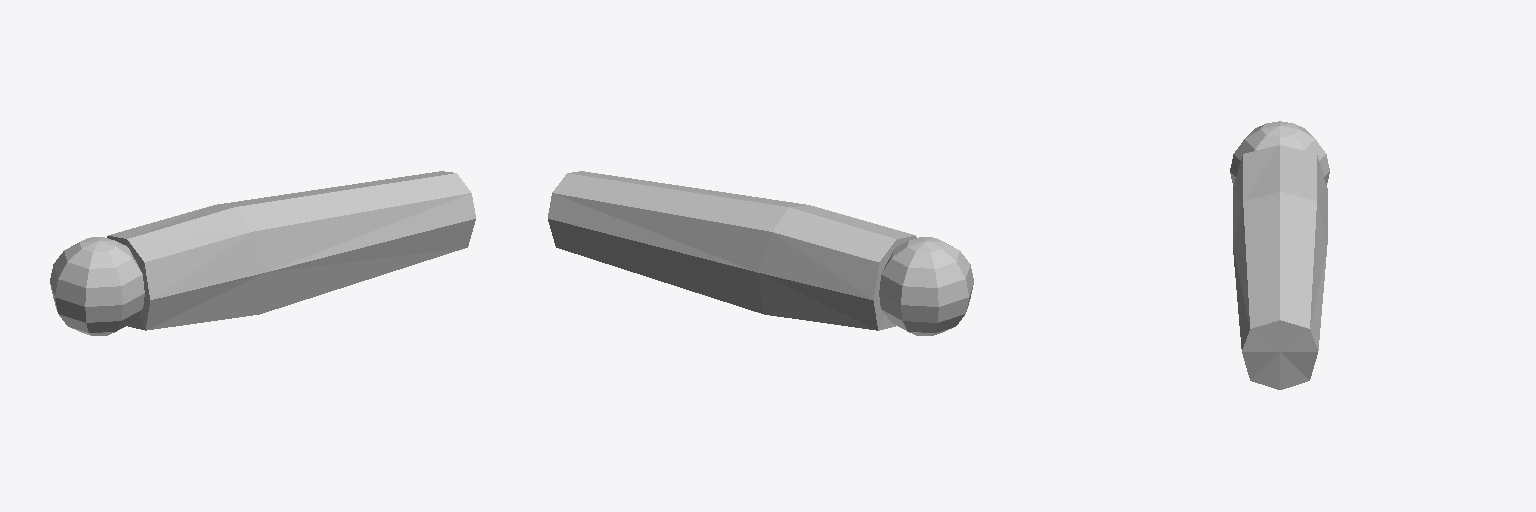
Rendered from left_lower_arm.obj.
The picture shows the model from 3 angles: view 1: azimuth 30°, elevation 25°; view 2: azimuth 150°, elevation 25°; view 3: azimuth 270°, elevation 25°; orthographic projection.
Visible parts, largest first — view 1: Left_Lower_Arm.001_Cube.011; view 2: Left_Lower_Arm.001_Cube.011; view 3: Left_Lower_Arm.001_Cube.011.
Part boxes in pixels (bbox=[...]): Left_Lower_Arm.001_Cube.011: bbox=[50, 171, 475, 335]; Left_Lower_Arm.001_Cube.011: bbox=[548, 171, 973, 335]; Left_Lower_Arm.001_Cube.011: bbox=[1230, 121, 1329, 389].
Bounding box in the file's own units: 0.7023 × 0.18 × 0.1516.